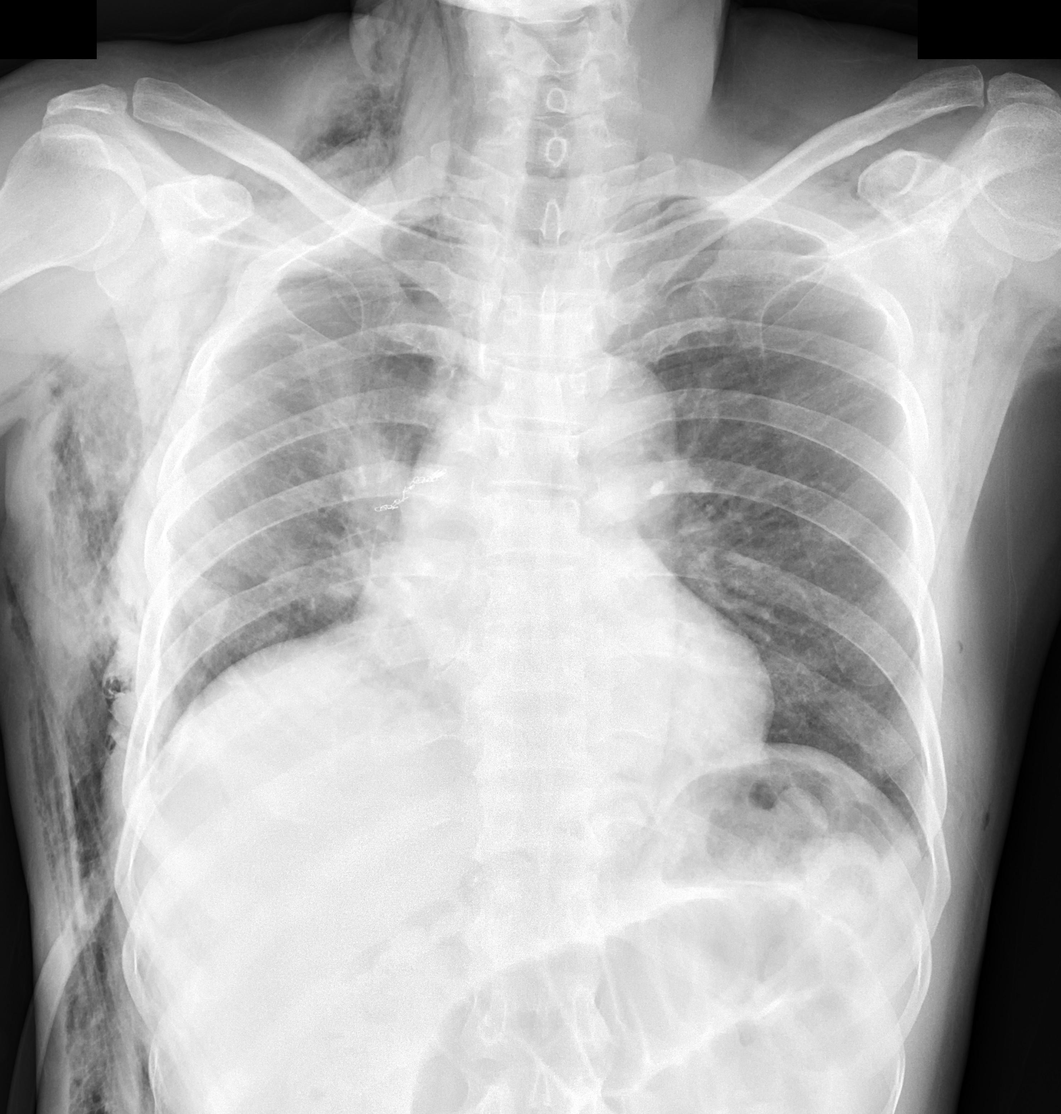Aortic enlargement: (538, 348, 676, 479)
Cardiomegaly: (359, 571, 771, 781)
Pleural thickening: (398, 195, 489, 224)
Pulmonary fibrosis: (301, 336, 412, 515)
